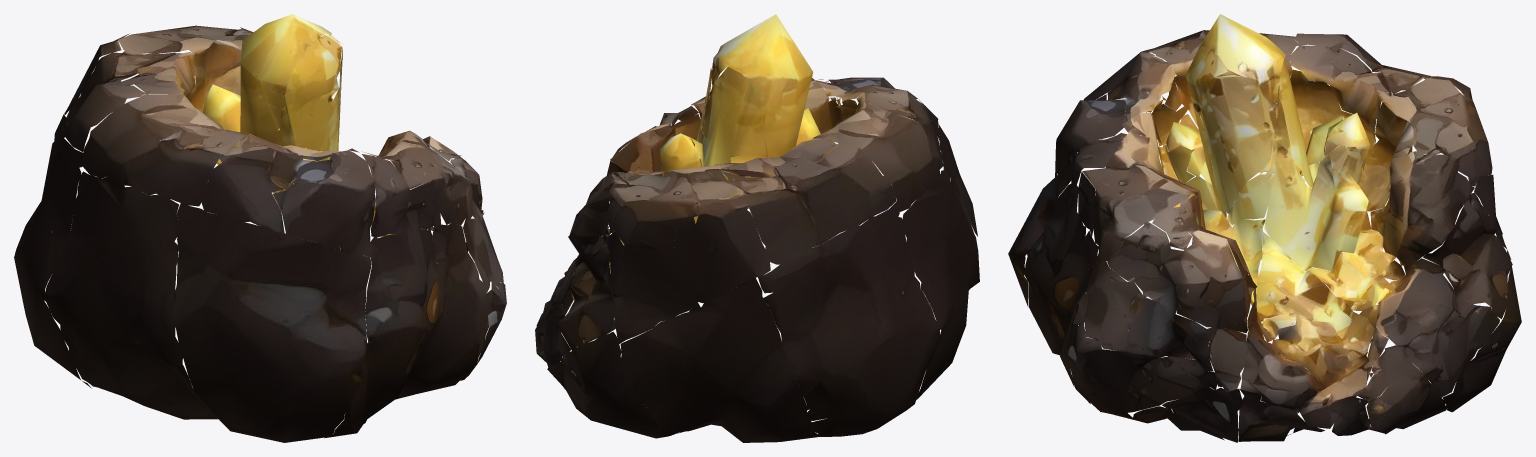
Rendered from ore_rich.glb.
3 views of the same model, side by side, from view 1: azimuth 30°, elevation 25°; view 2: azimuth 150°, elevation 25°; view 3: azimuth 270°, elevation 25° (orthographic). The views are drawn at different scales.
Visible parts, largest first — view 1: tripo_node_c465b759-b6a5-491d-b302-1a8f6a5da35f; view 2: tripo_node_c465b759-b6a5-491d-b302-1a8f6a5da35f; view 3: tripo_node_c465b759-b6a5-491d-b302-1a8f6a5da35f.
Part boxes in pixels (bbox=[...]): tripo_node_c465b759-b6a5-491d-b302-1a8f6a5da35f: bbox=[14, 14, 506, 442]; tripo_node_c465b759-b6a5-491d-b302-1a8f6a5da35f: bbox=[535, 14, 979, 442]; tripo_node_c465b759-b6a5-491d-b302-1a8f6a5da35f: bbox=[1008, 14, 1521, 442].
Size of the model in its own units: 0.8975 by 0.7741 by 1.
Materials: 1 (1 with a texture image).
